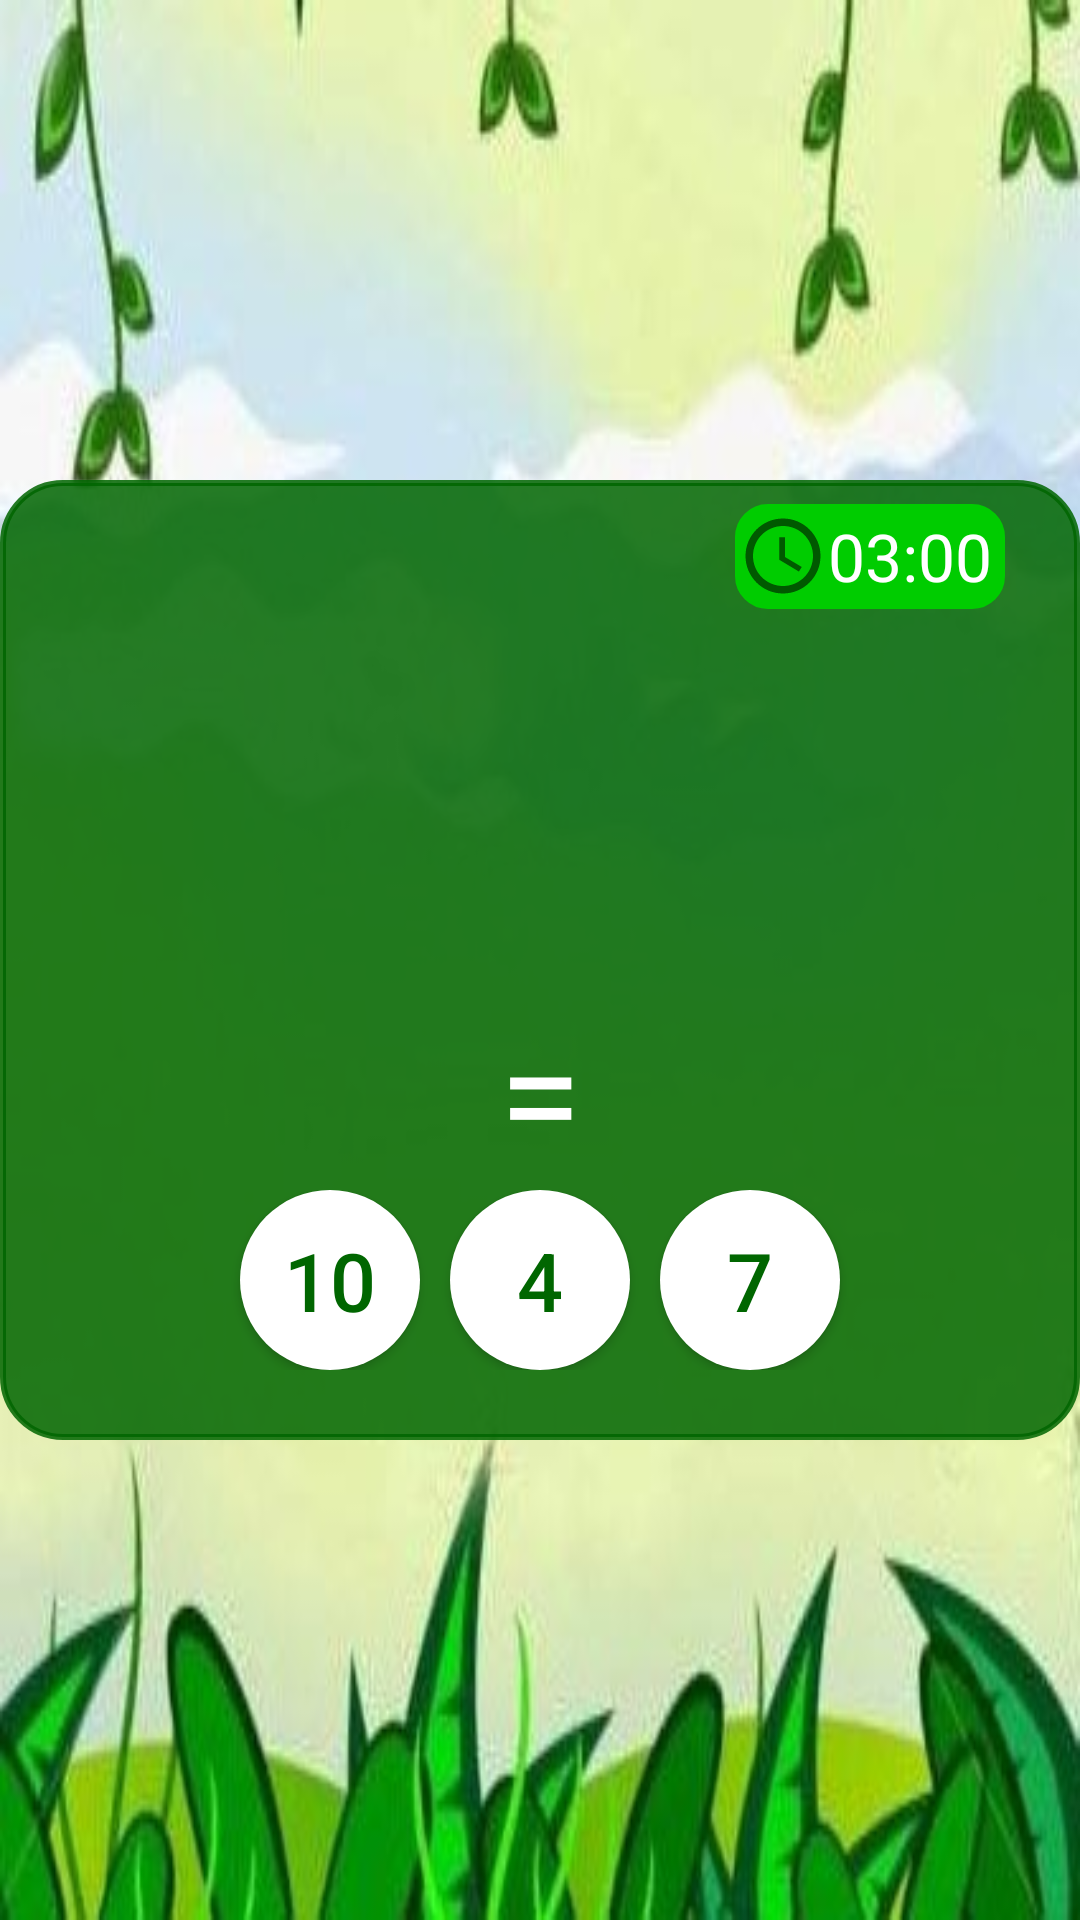

Where to tap for icons on this 1080 x 1920 app screen, as [x,y]:
access time: [783,556]
